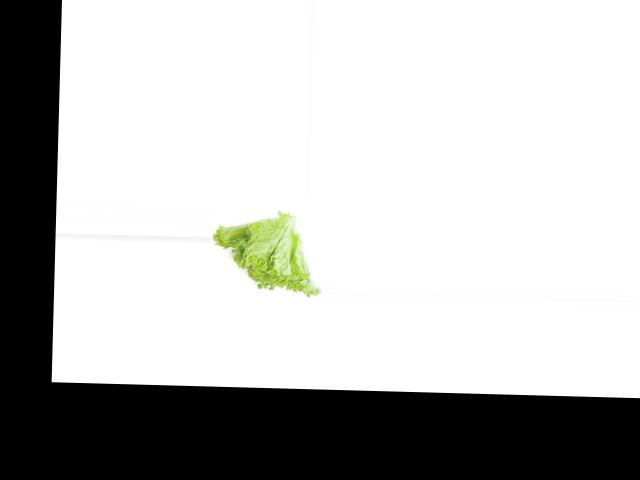lettuce: (210, 211, 323, 299)
